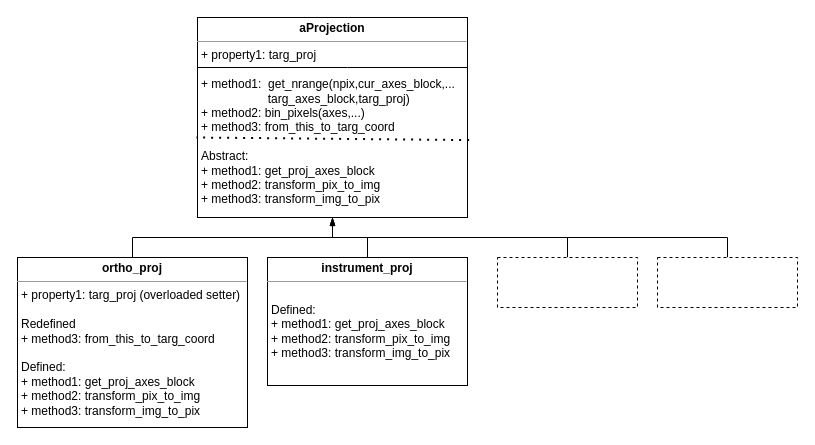
Image size: 815x445. Some labels were removed from this diagram. The shapes that lost their labels are listed below. From the top down, each one's centre as x and y in pixels, then its label:
At pixel 567 282: "spher_proj".
At pixel 727 282: "cyl_proj".
